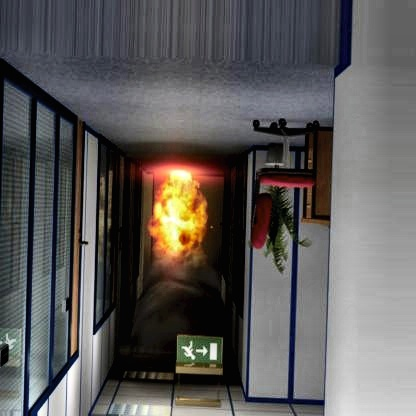fire: (132, 152, 218, 281)
